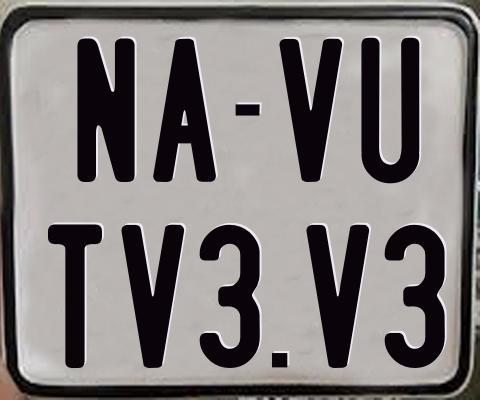3: (384, 225, 450, 374), (196, 225, 260, 374)
A: (152, 39, 215, 184)
N: (75, 38, 136, 183)
T: (46, 222, 101, 367)
U: (361, 35, 425, 180)
V: (276, 39, 345, 188), (306, 225, 372, 368), (118, 222, 181, 371)
